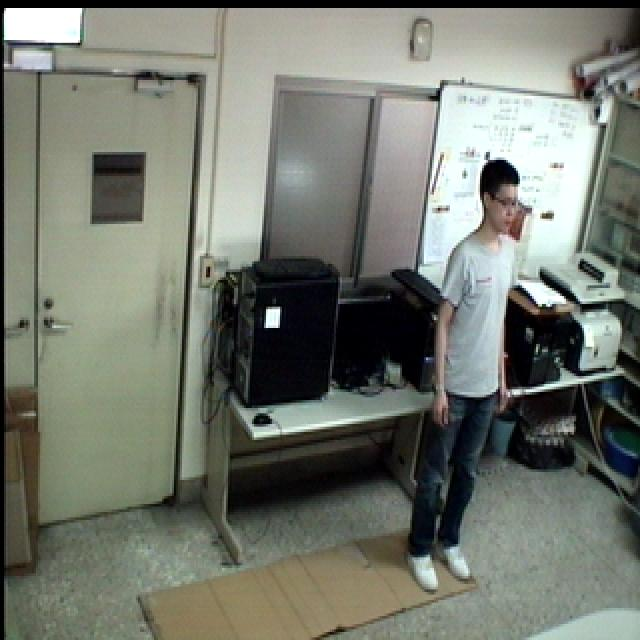stand: (388, 147, 524, 604)
